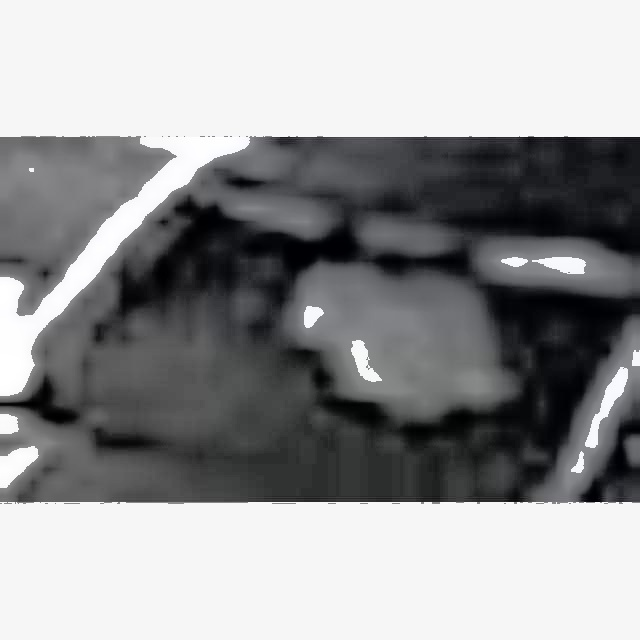tidak-pakai: (300, 241, 496, 411)
